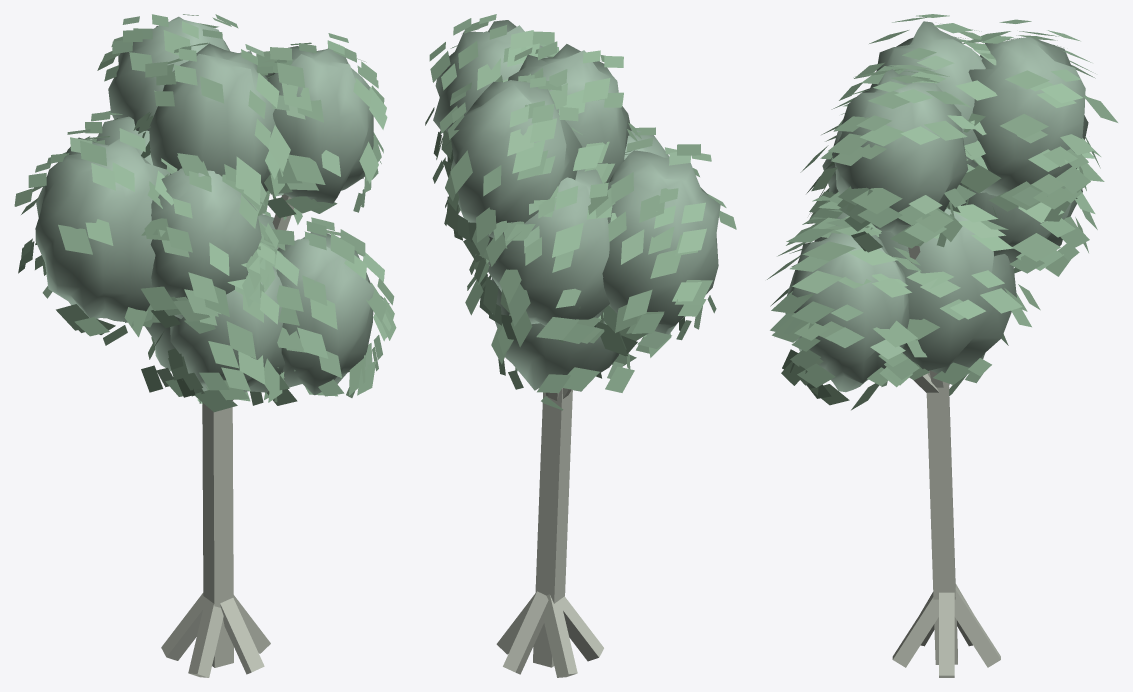
File: birch.glb
3 views of the same model, side by side, from view 1: azimuth 30°, elevation 25°; view 2: azimuth 150°, elevation 25°; view 3: azimuth 270°, elevation 25° (orthographic). The views are drawn at different scales.
Visible parts, largest first — view 1: SourceMesh_00024, SourceMesh_00019, SourceMesh_00020, SourceMesh_00023, SourceMesh_00016, SourceMesh_00018, SourceMesh_00000, SourceMesh_00021, SourceMesh_00017, SourceMesh_00003, SourceMesh_00002, SourceMesh_00004 (+3 smaller); view 2: SourceMesh_00024, SourceMesh_00019, SourceMesh_00017, SourceMesh_00022, SourceMesh_00000, SourceMesh_00020, SourceMesh_00015, SourceMesh_00023, SourceMesh_00004, SourceMesh_00005, SourceMesh_00003, SourceMesh_00001 (+1 smaller); view 3: SourceMesh_00024, SourceMesh_00017, SourceMesh_00023, SourceMesh_00015, SourceMesh_00018, SourceMesh_00000, SourceMesh_00020, SourceMesh_00022, SourceMesh_00001, SourceMesh_00005, SourceMesh_00002.
Boxes of the visible parts, box(x1,y1,x2,y2) form: SourceMesh_00024: box(14, 14, 396, 412); SourceMesh_00019: box(35, 137, 169, 322); SourceMesh_00020: box(149, 43, 275, 191); SourceMesh_00023: box(265, 44, 373, 203); SourceMesh_00016: box(150, 168, 261, 318); SourceMesh_00018: box(276, 232, 374, 395); SourceMesh_00000: box(202, 402, 233, 667); SourceMesh_00021: box(170, 266, 284, 392); SourceMesh_00017: box(108, 16, 229, 130); SourceMesh_00003: box(188, 598, 223, 677); SourceMesh_00002: box(220, 598, 264, 674); SourceMesh_00004: box(161, 593, 208, 660); SourceMesh_00024: box(425, 14, 736, 410); SourceMesh_00019: box(602, 150, 720, 334); SourceMesh_00017: box(451, 80, 582, 237); SourceMesh_00022: box(488, 169, 609, 325); SourceMesh_00000: box(533, 388, 572, 667); SourceMesh_00020: box(508, 44, 631, 182); SourceMesh_00015: box(491, 278, 619, 391); SourceMesh_00023: box(433, 20, 549, 133); SourceMesh_00004: box(543, 594, 577, 677); SourceMesh_00005: box(503, 591, 548, 674); SourceMesh_00003: box(557, 596, 603, 661); SourceMesh_00001: box(496, 594, 535, 654); SourceMesh_00024: box(767, 14, 1117, 410); SourceMesh_00017: box(968, 37, 1088, 207); SourceMesh_00023: box(832, 69, 968, 235); SourceMesh_00015: box(878, 205, 1016, 373); SourceMesh_00018: box(785, 225, 909, 392); SourceMesh_00000: box(926, 371, 957, 664); SourceMesh_00020: box(870, 21, 985, 186); SourceMesh_00022: box(961, 189, 1082, 267); SourceMesh_00001: box(939, 592, 954, 677); SourceMesh_00005: box(954, 587, 1000, 667); SourceMesh_00002: box(892, 594, 938, 667).
Size of the model in its own units: 2.13 by 4.06 by 2.05.
